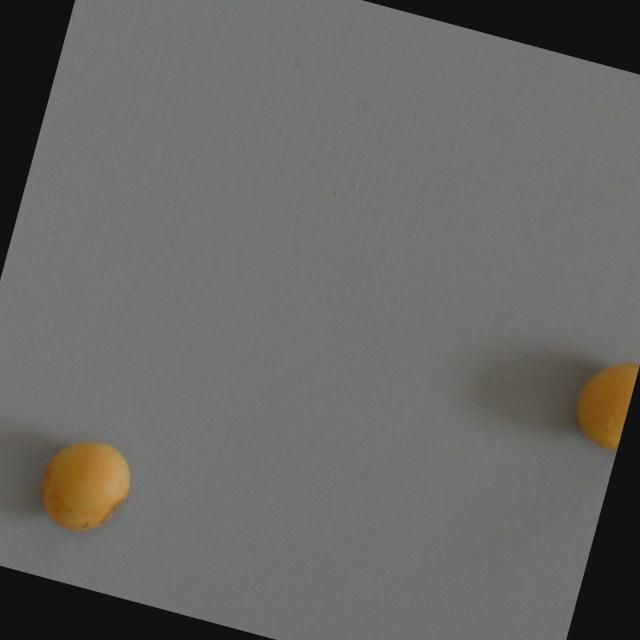cuerpos_extranos: (14, 417, 147, 558), (557, 341, 640, 459)
